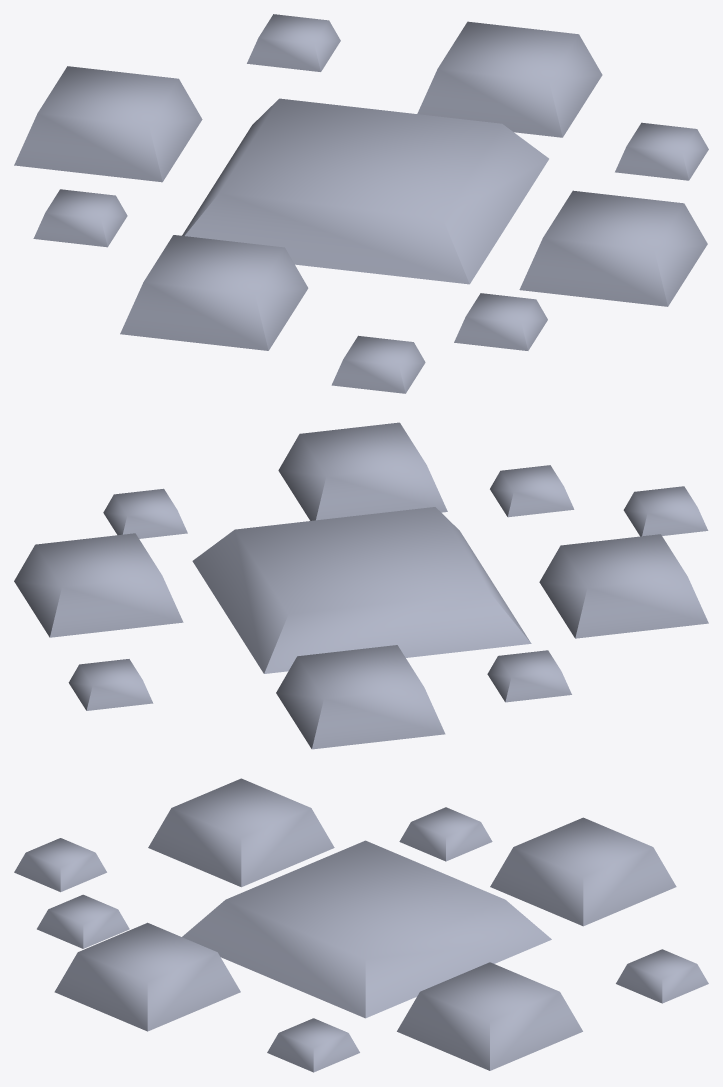
File: stones.dae
3 renders of one model, top to bottom at view 1: azimuth 30°, elevation 25°; view 2: azimuth 150°, elevation 25°; view 3: azimuth 270°, elevation 25°, orthographic. The views are drawn at different scales.
Parts seen in each view (by area): view 1: stones; view 2: stones; view 3: stones.
Boxes of the visible parts, box(x1,y1,x2,y2) form: stones: box(14, 14, 708, 393); stones: box(14, 422, 708, 749); stones: box(14, 778, 708, 1072).
Bounding box in the file's own units: 0.7102 × 0.05 × 0.7897.
